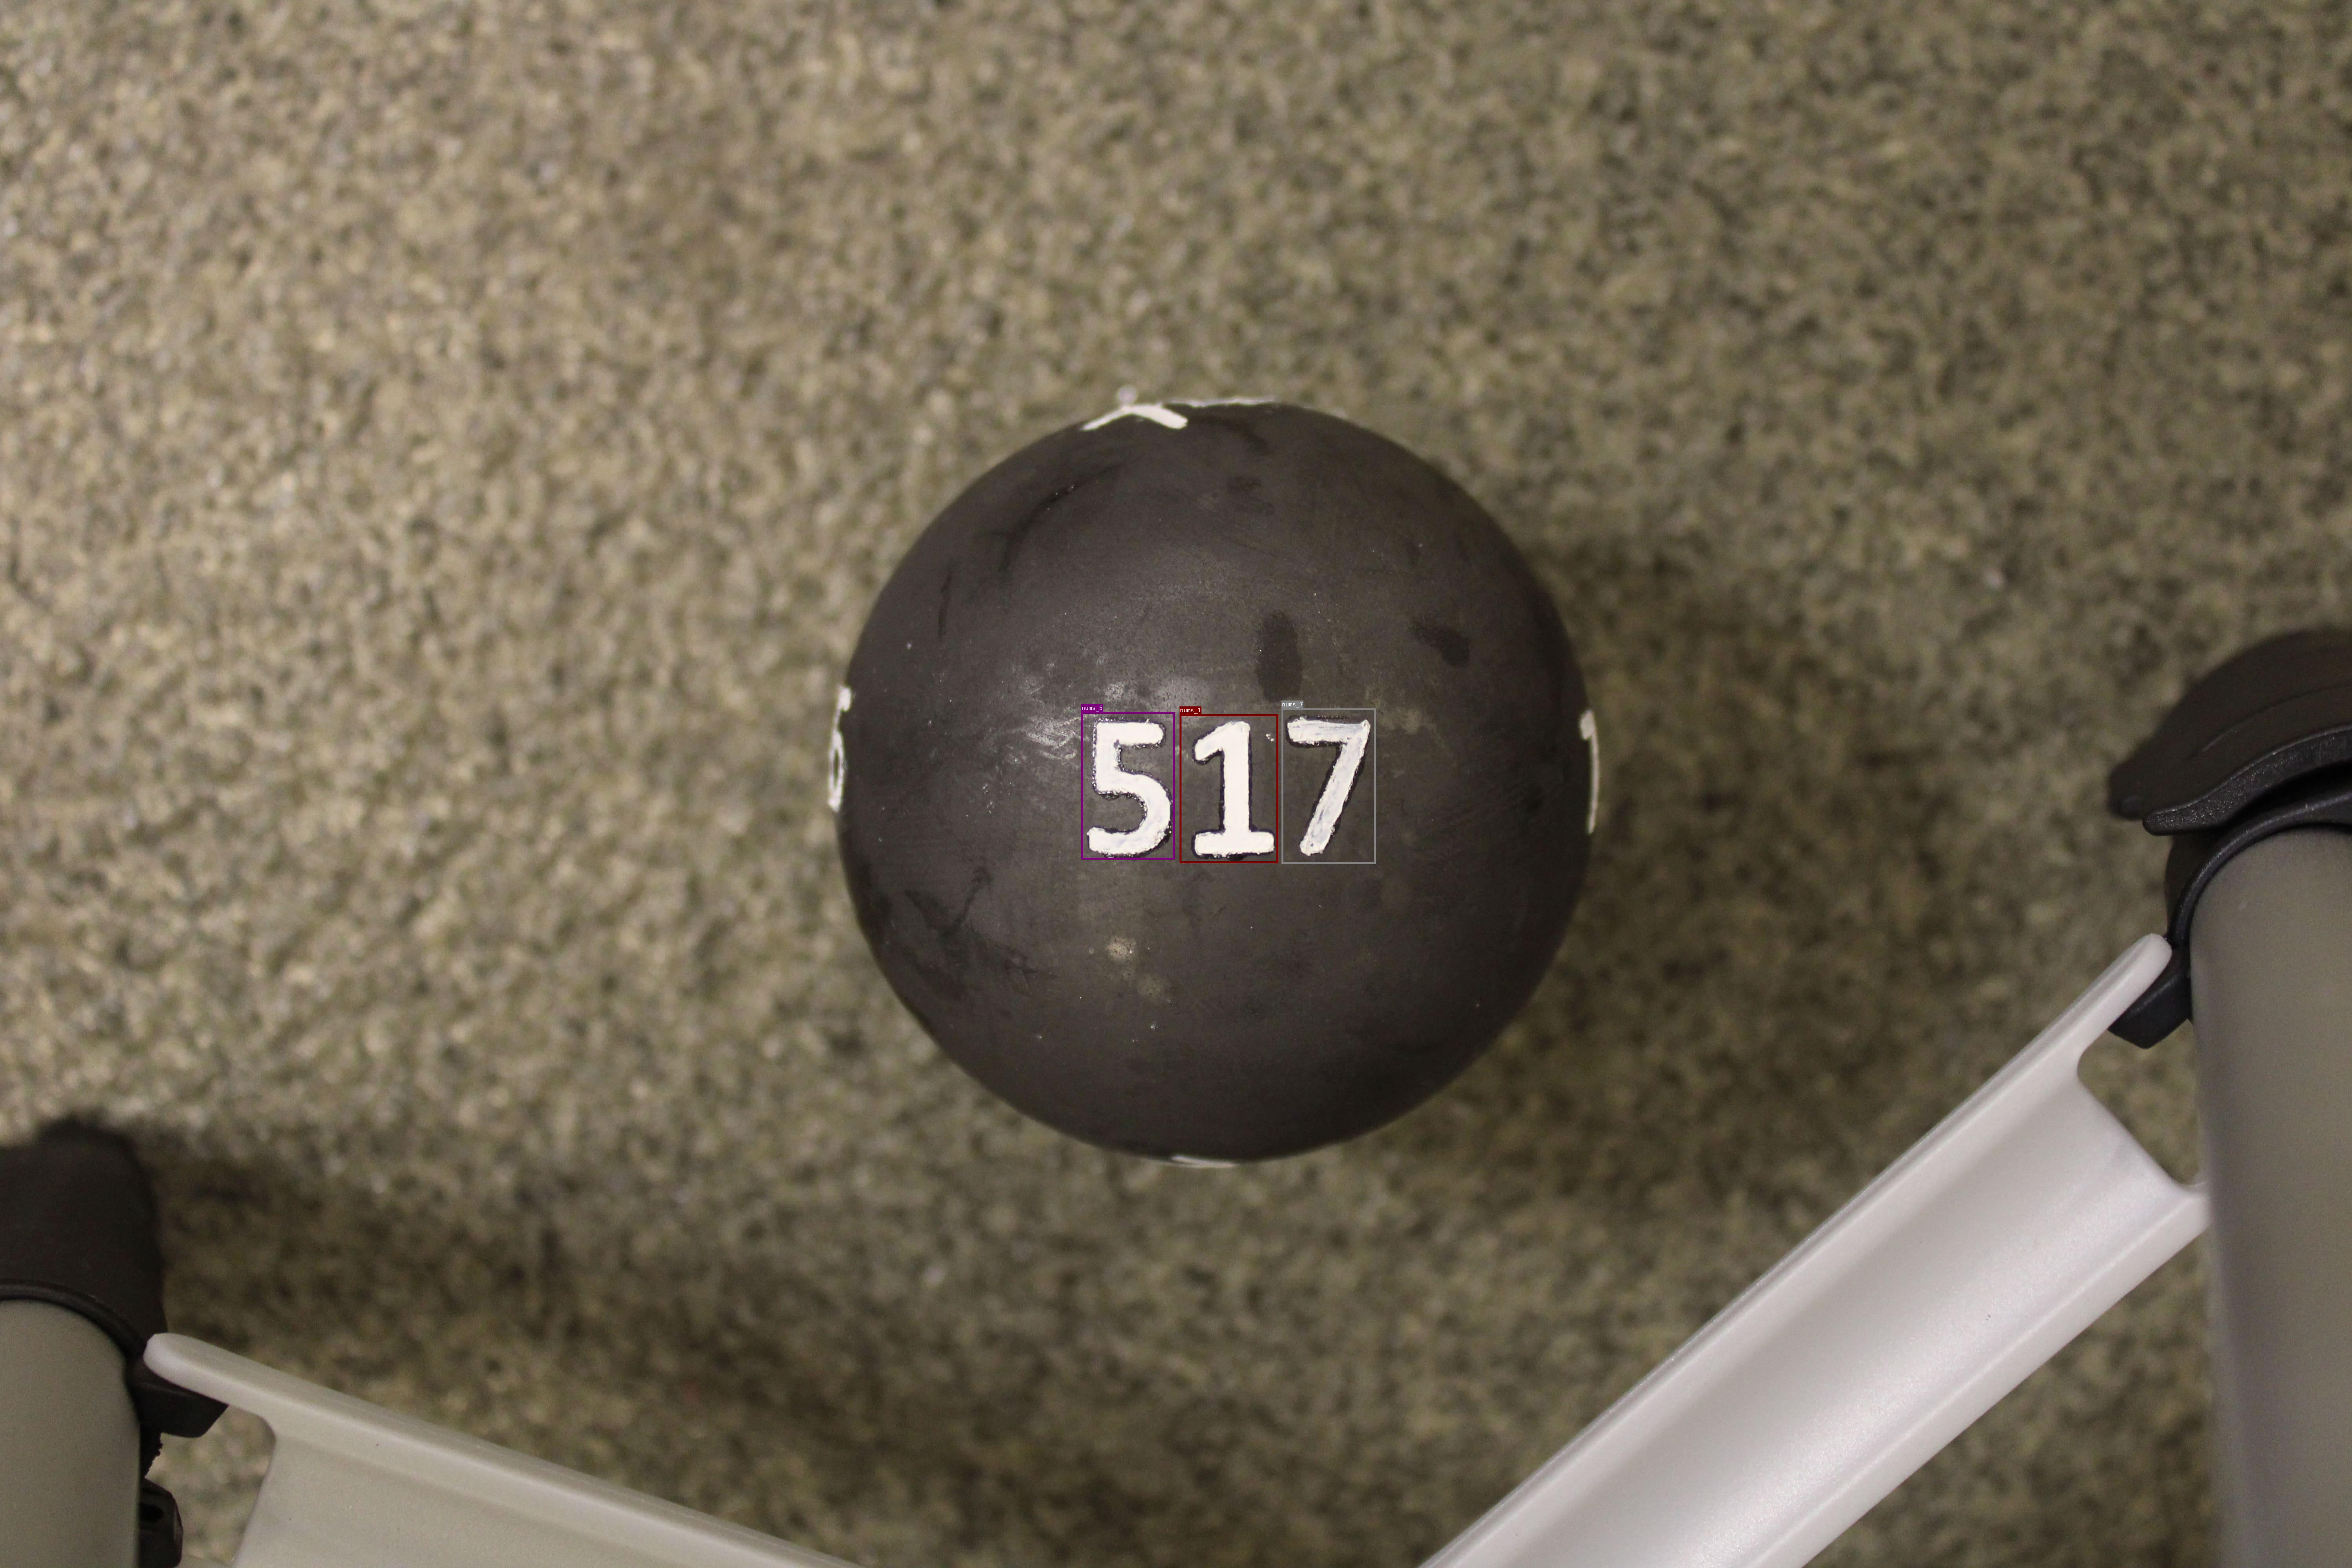nums_1: (1179, 714, 1277, 863)
nums_5: (1081, 712, 1174, 859)
nums_7: (1281, 709, 1375, 863)
